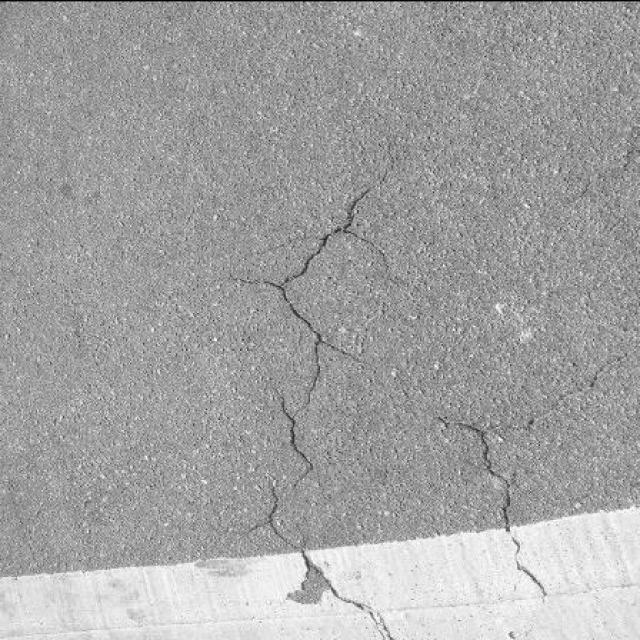Crack: (238, 158, 396, 485), (444, 344, 639, 595), (255, 482, 393, 638)
